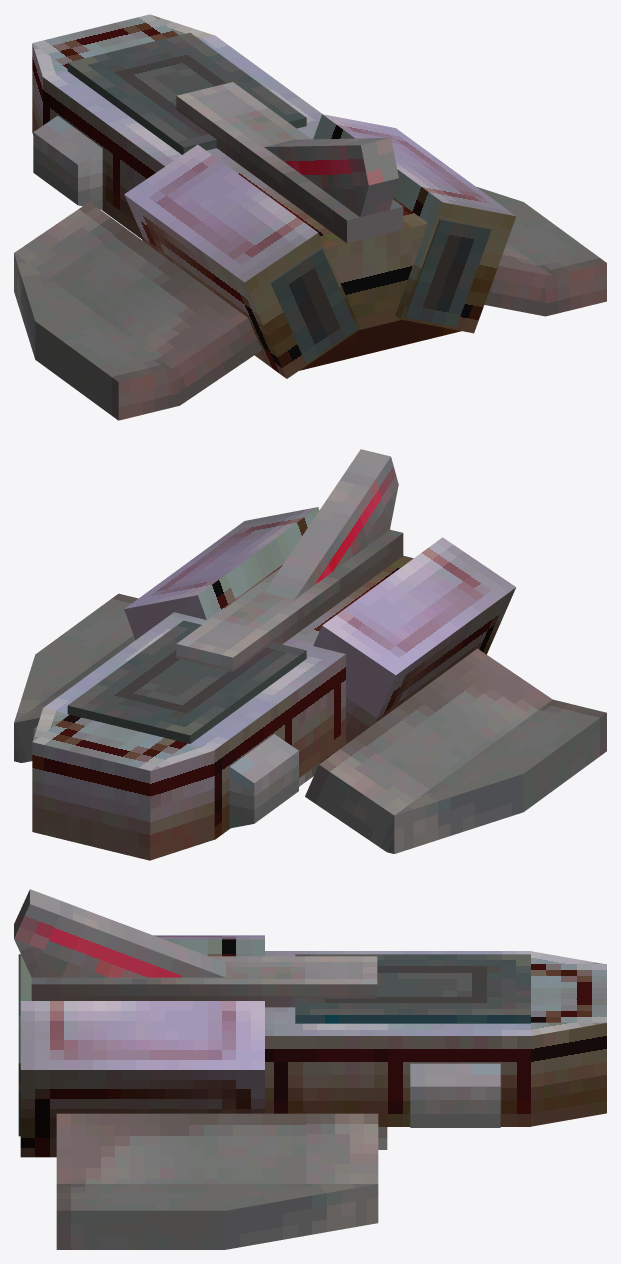
The model's file is raven.gltf.
The picture shows the model from 3 angles, top to bottom: view 1: azimuth 30°, elevation 25°; view 2: azimuth 150°, elevation 25°; view 3: azimuth 270°, elevation 25°; orthographic projection.
Parts seen in each view (by area): view 1: cube (×23); view 2: cube (×23); view 3: cube (×20).
Part boxes in pixels (x1,y1,x2,y2): cube (×23): [14, 14, 606, 420]; cube (×23): [14, 449, 606, 860]; cube (×20): [14, 889, 606, 1249].
Size of the model in its own units: 2.49 by 1.12 by 2.58.
2 materials, 2 textured.
